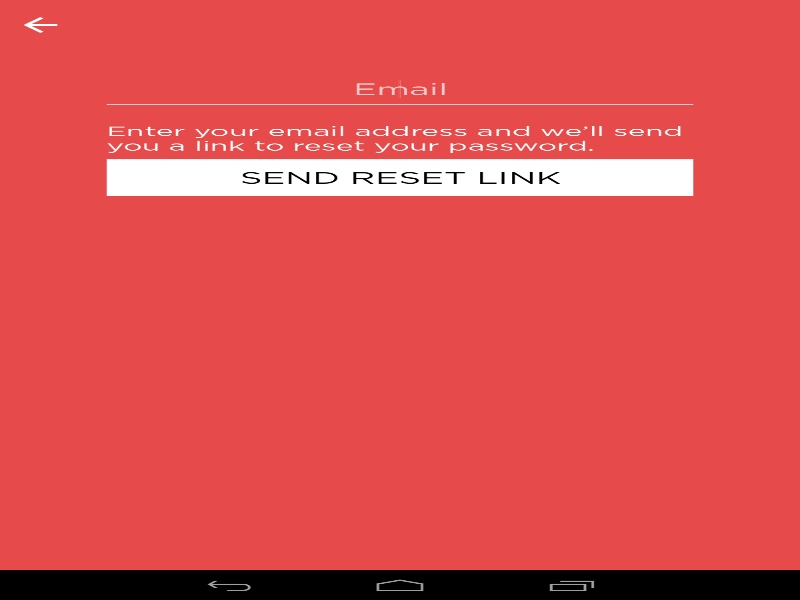Input: (106, 80, 693, 97)
